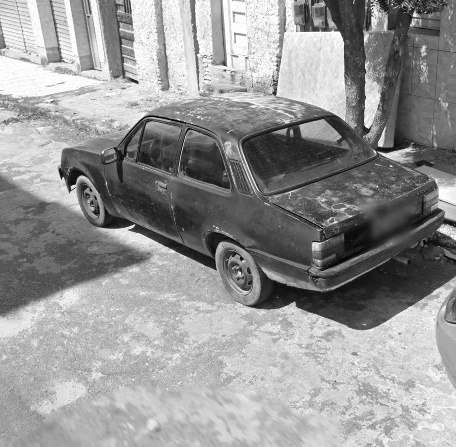car: (54, 85, 449, 317)
